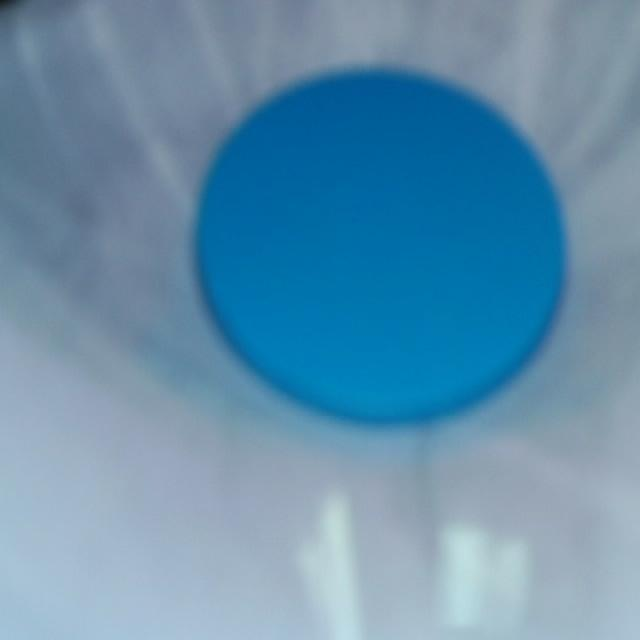circle: (197, 71, 564, 421)
